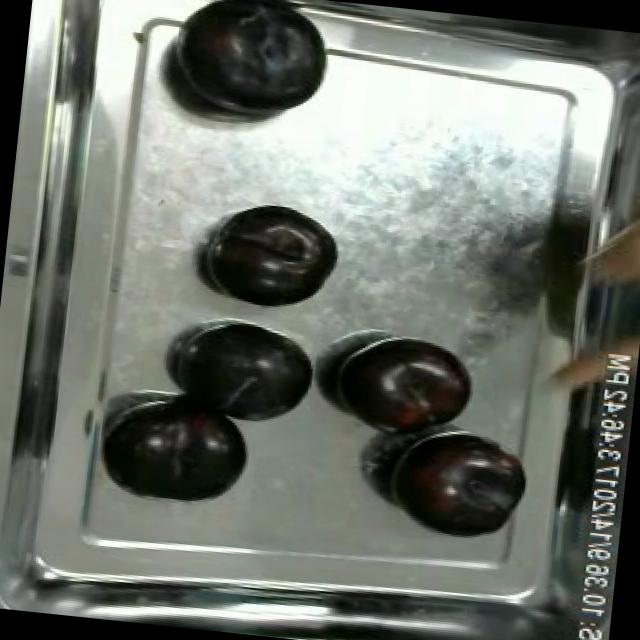Fruit: (162, 0, 338, 127), (167, 308, 330, 437), (94, 392, 260, 514), (382, 421, 535, 546), (199, 198, 349, 320), (324, 329, 479, 446)
